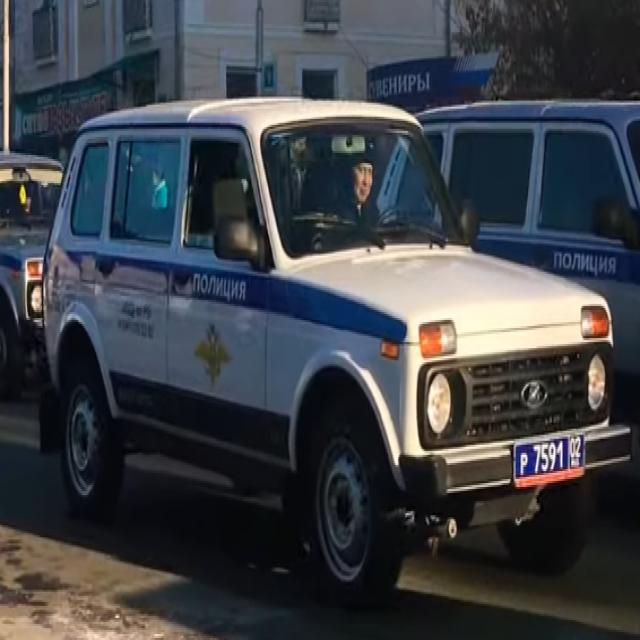police car: (46, 91, 631, 610)
